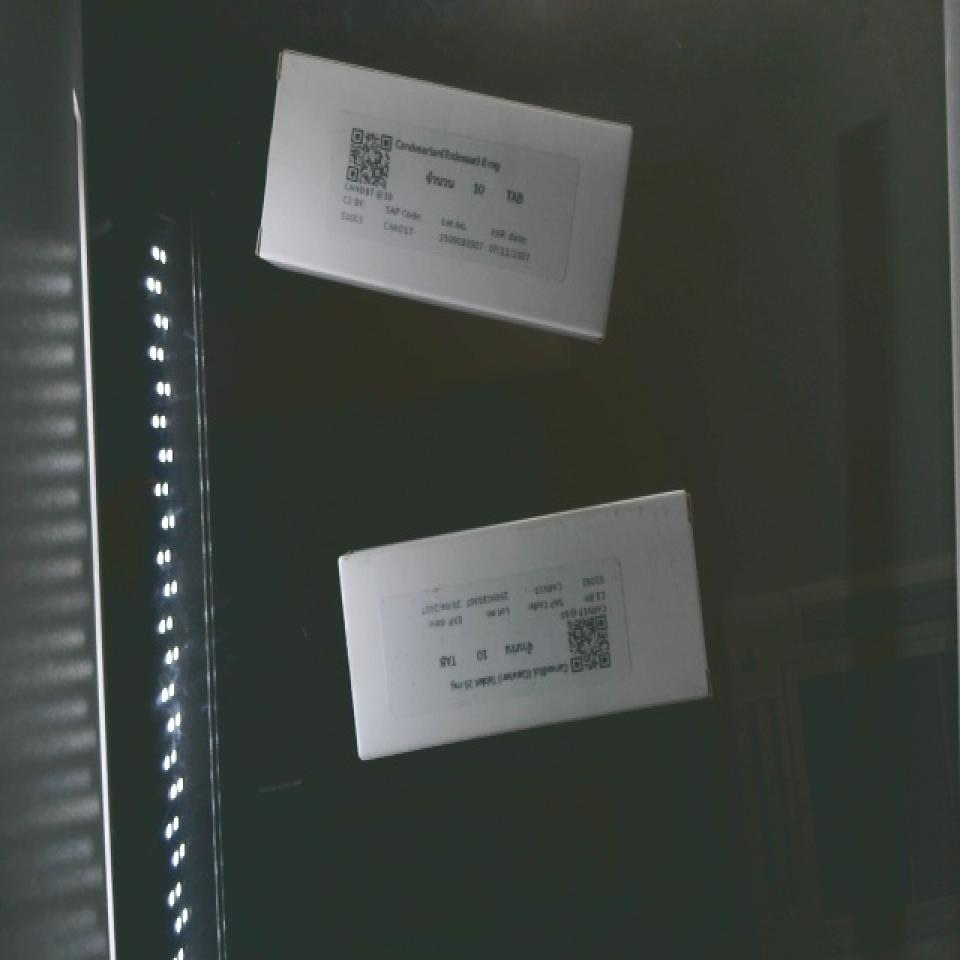medicine_box: (314, 486, 728, 763), (239, 52, 645, 332)
qr_code: (549, 593, 641, 686), (328, 106, 406, 210)
